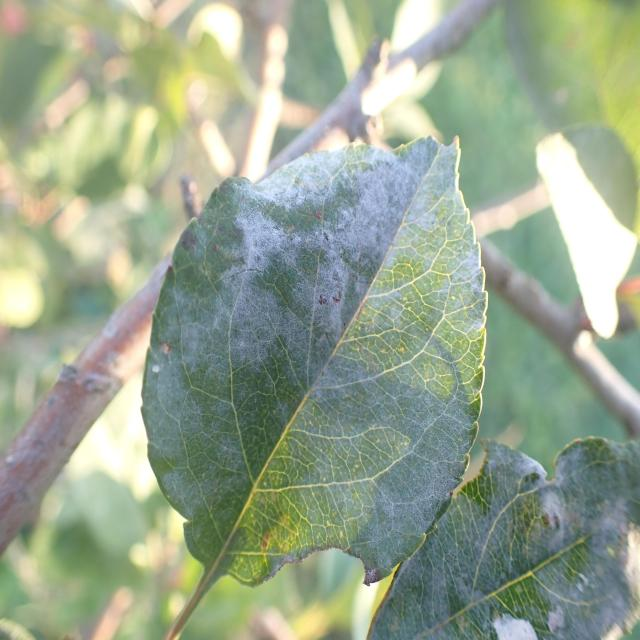Powdery_mildew: (132, 124, 484, 584), (336, 396, 640, 640)
